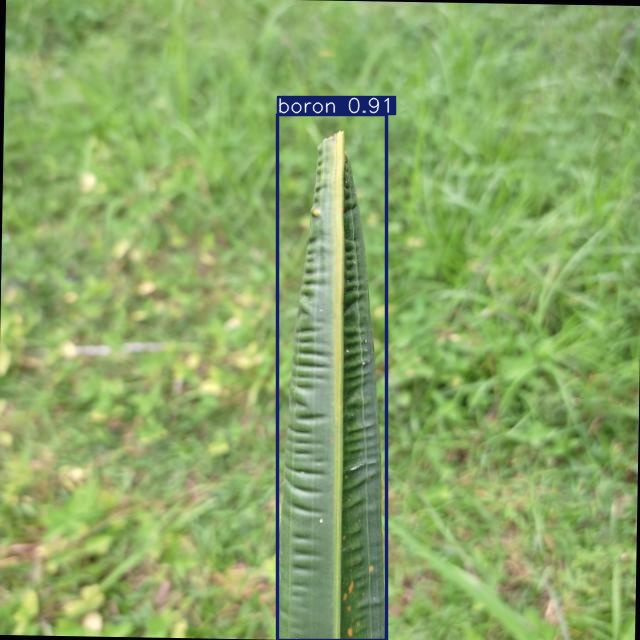nitrogen: (277, 115, 387, 640)
